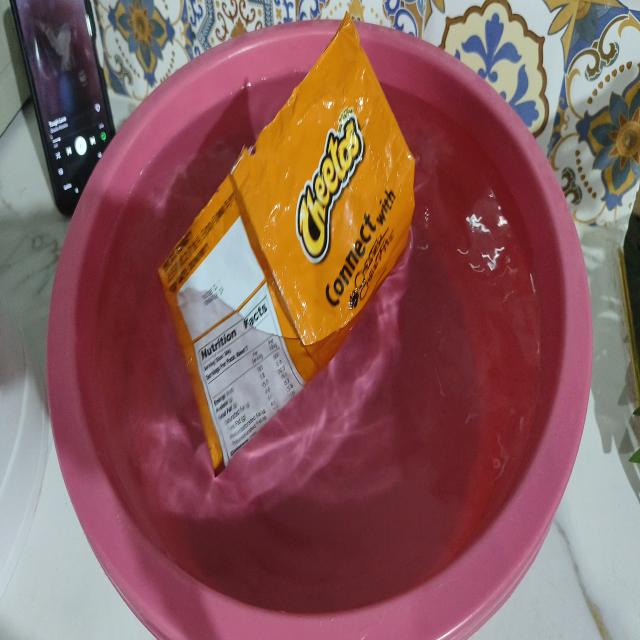Plastic Wrapper: (159, 14, 415, 474)
